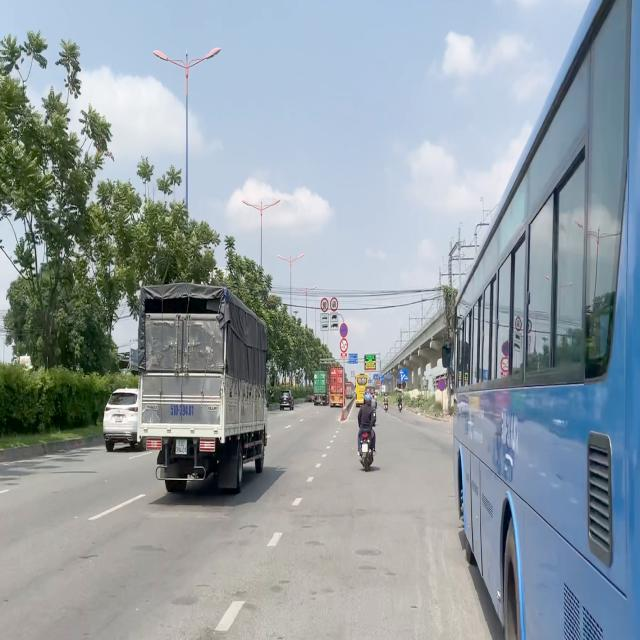Cam dung va do: (339, 322, 348, 338), (438, 379, 446, 392)
Toc do toi da: (330, 297, 338, 312), (321, 297, 328, 313)
